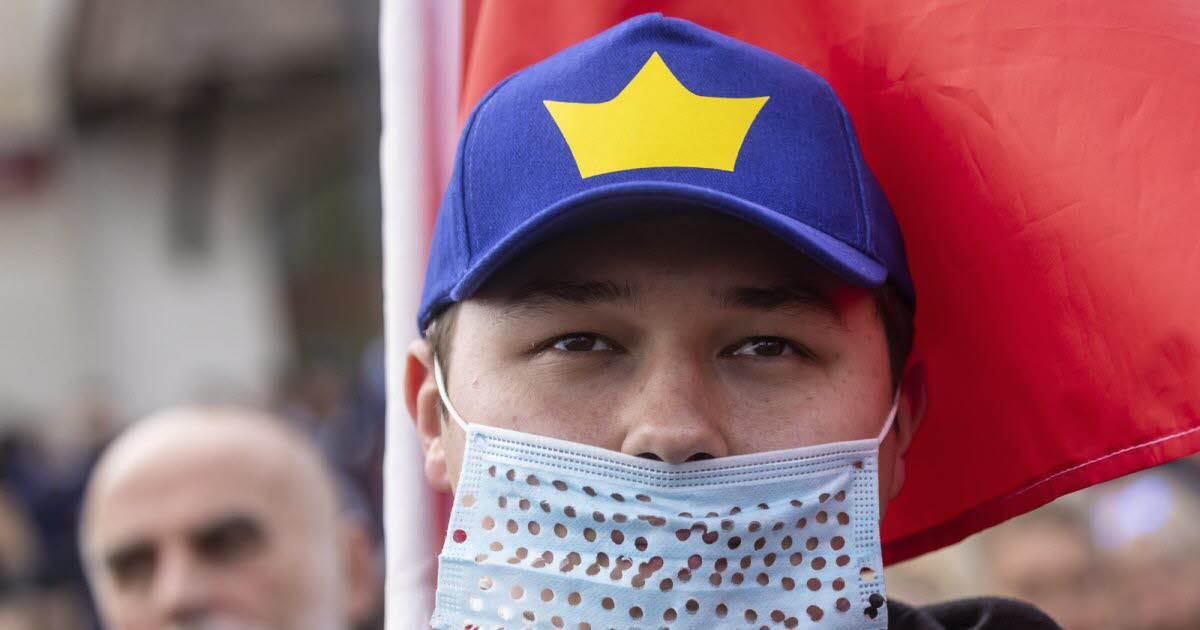with_incorrect_mask: (460, 278, 862, 625)
